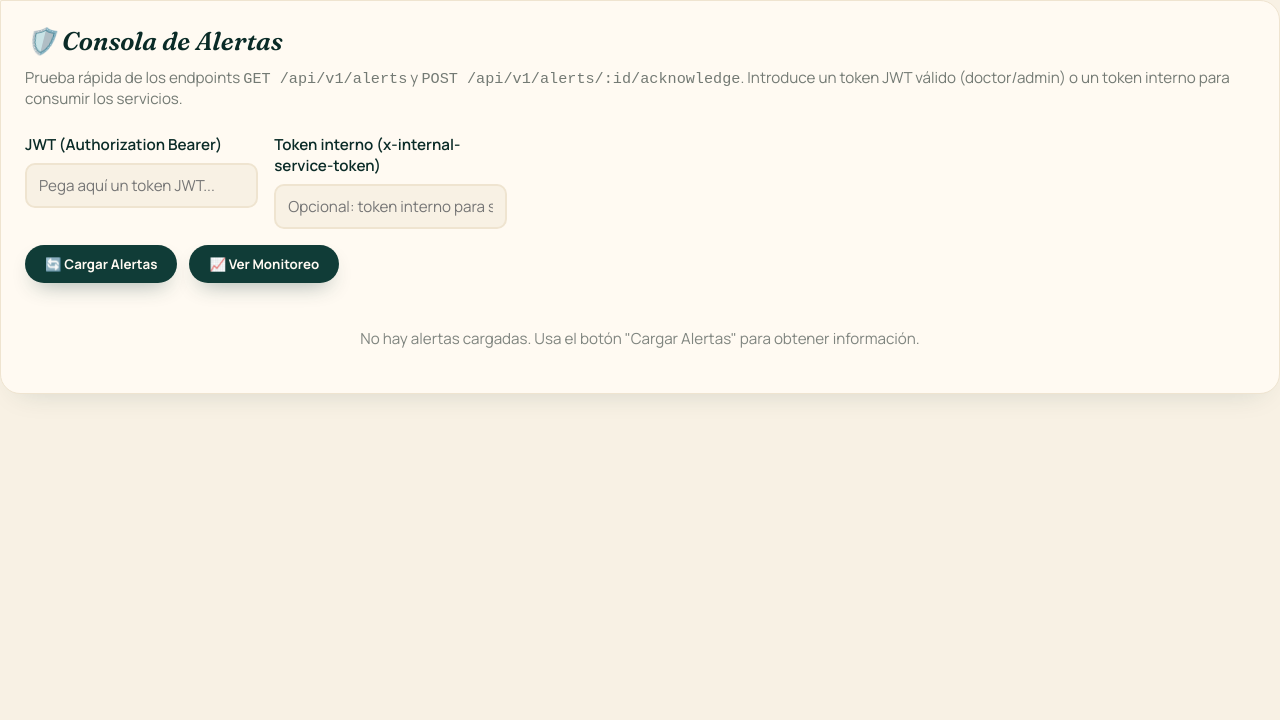
Test: AlertConsole Enhanced Tests › Edge Cases › should display success message after loading
Step 1. Click the button "🔄 Cargar Alertas" → click(101, 264), box [25,245,177,283]
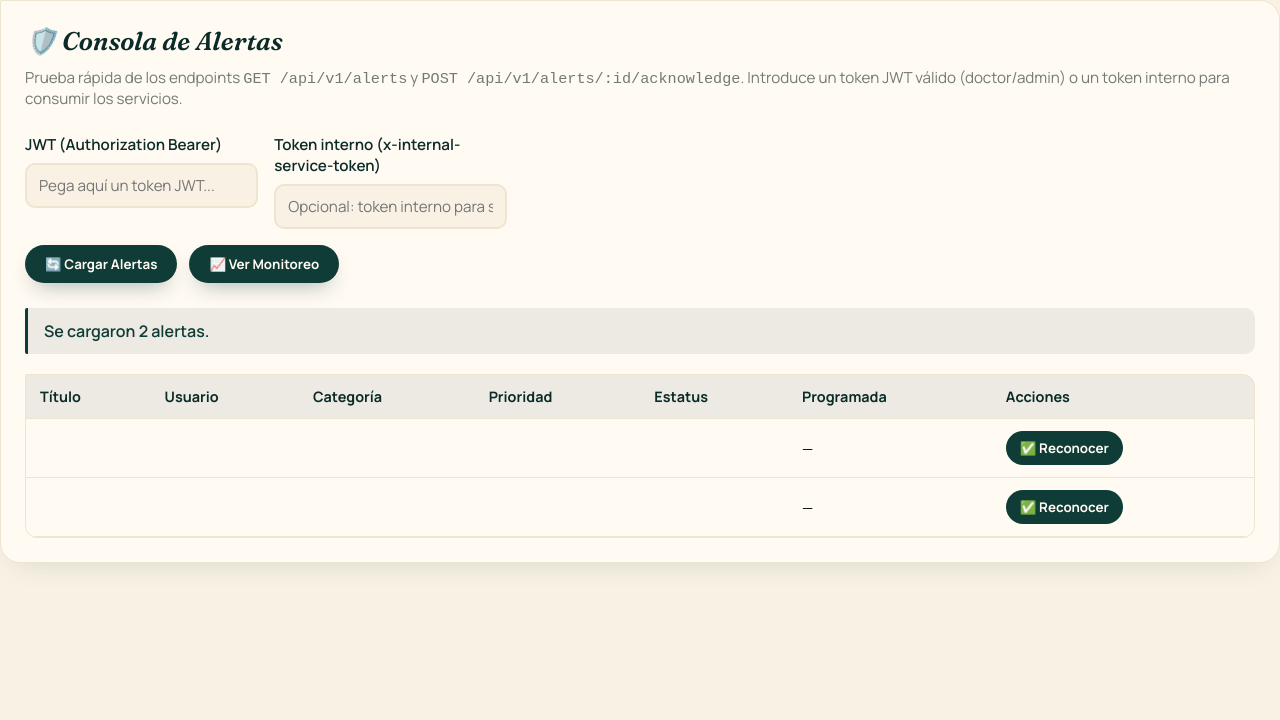
Expected: the text "Se cargaron 2 alertas." is shown, [25,308,1255,354]
